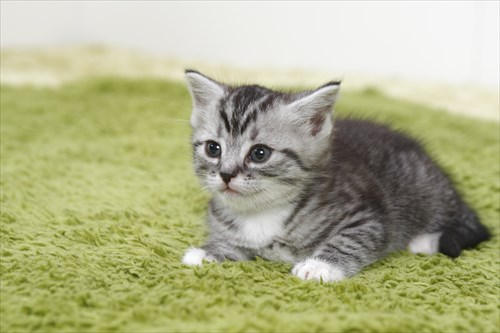cat: (183, 67, 486, 284)
